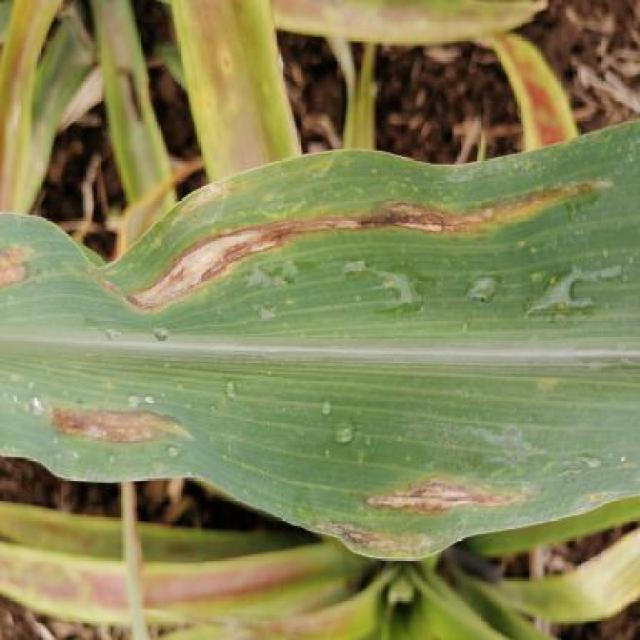Corn_Leaf_Blight: (0, 125, 640, 566)
